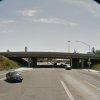cars: (5, 70, 24, 83)
